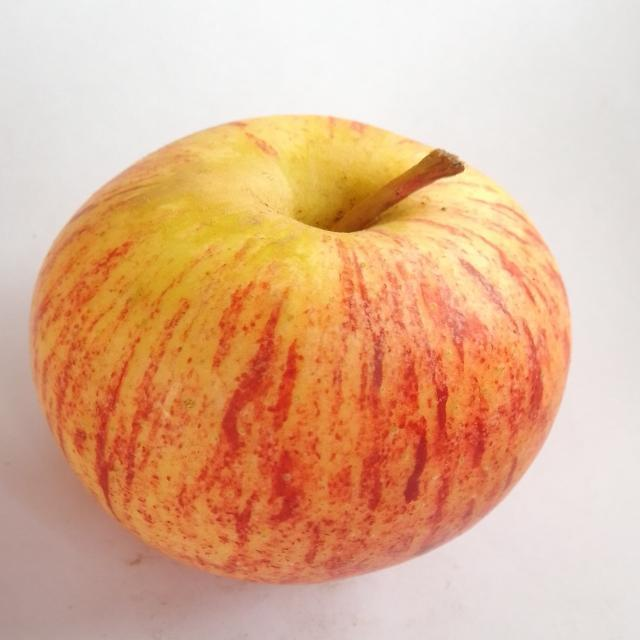Fresh Apple: (28, 112, 577, 585)
